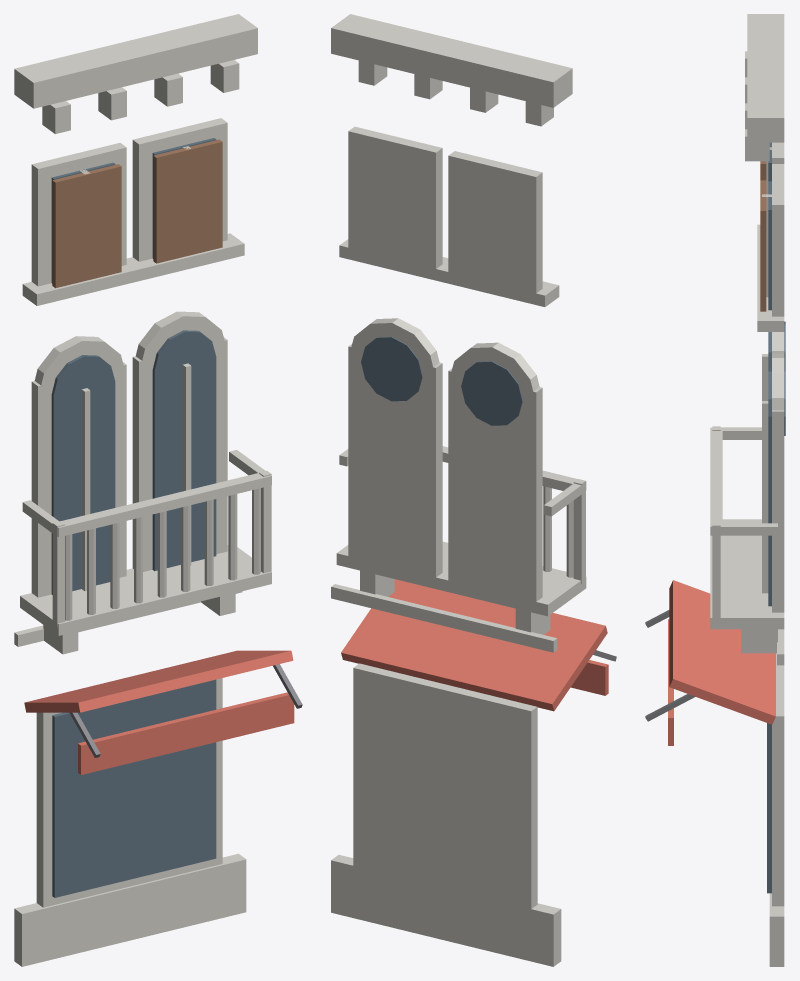
The model's file is VN_Fachada_B.fbx.
3 renders of one model, left to right at view 1: azimuth 30°, elevation 25°; view 2: azimuth 150°, elevation 25°; view 3: azimuth 270°, elevation 25°, orthographic. The views are drawn at different scales.
Parts seen in each view (by area): view 1: VN_Fachada_B; view 2: VN_Fachada_B; view 3: VN_Fachada_B.
Part boxes in pixels (x1,y1,x2,y2): VN_Fachada_B: [14, 14, 302, 966]; VN_Fachada_B: [331, 14, 616, 966]; VN_Fachada_B: [645, 14, 785, 966].
Bounding box in the file's own units: 2 × 7.6 × 1.14.
